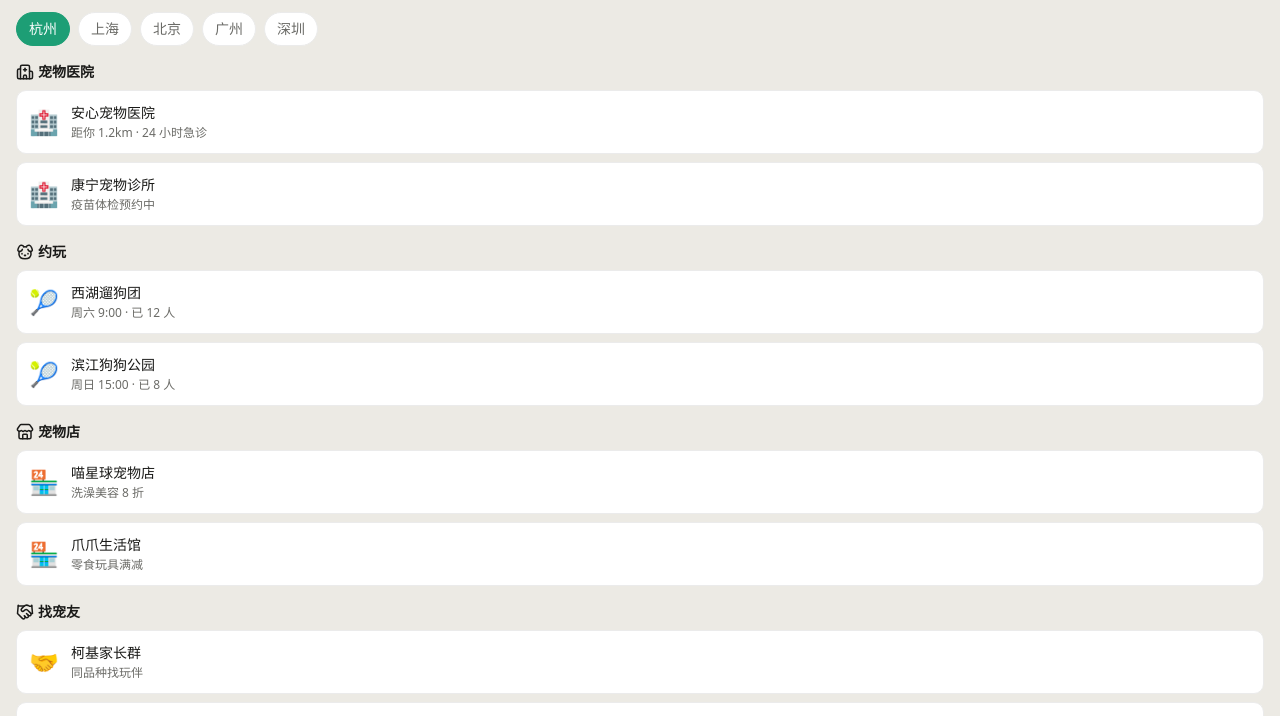
Test: LocalView 同城分区 › source=local 的种子帖并入对应分区（按作者城市）
The image size is (1280, 716).
// post_5 医院推荐（作者 u_chen 广州）→ 广州 · 宠物医院
Click the button "广州" at [229, 29], box top-left (202, 12), bottom-right (256, 46)
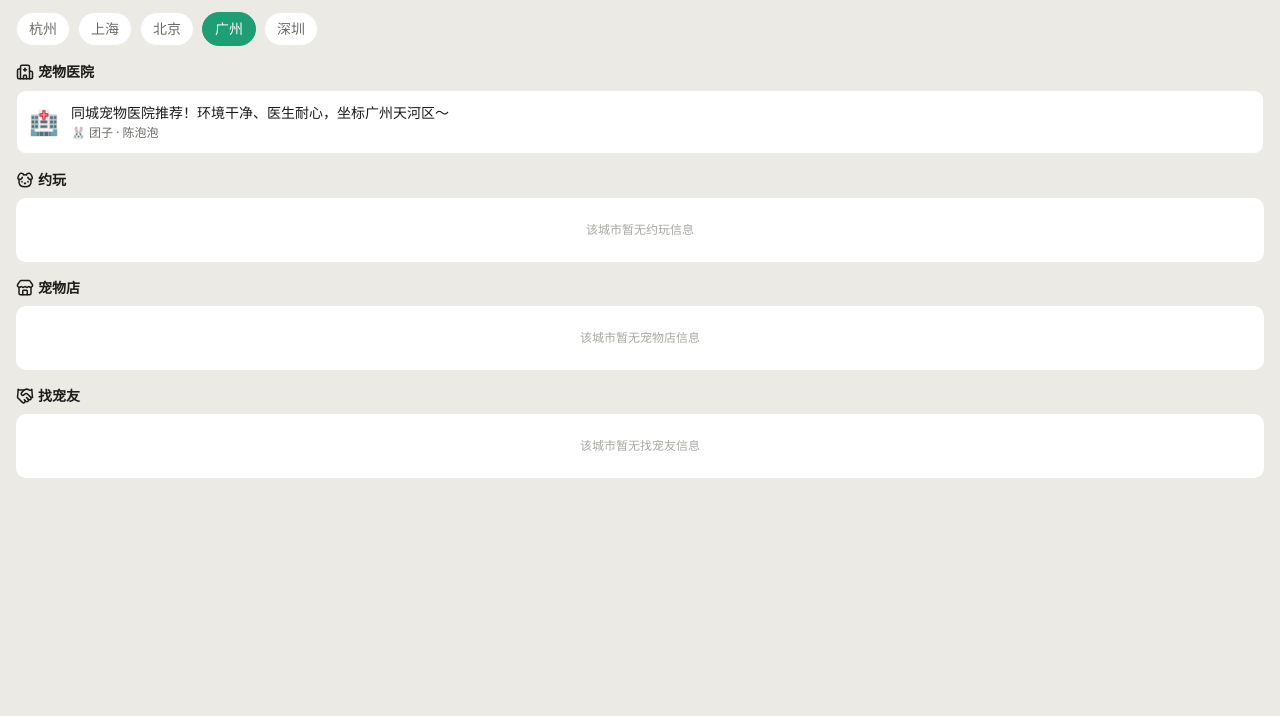
Check: the text "同城宠物医院推荐！环境干净、医生耐心，坐标广州天河区～" is shown, box top-left (71, 103), bottom-right (449, 122)
// post_7 猫友聚会（作者 u_lin 上海）→ 上海 · 约玩
Click the button "上海" at [105, 29], box top-left (78, 12), bottom-right (132, 46)
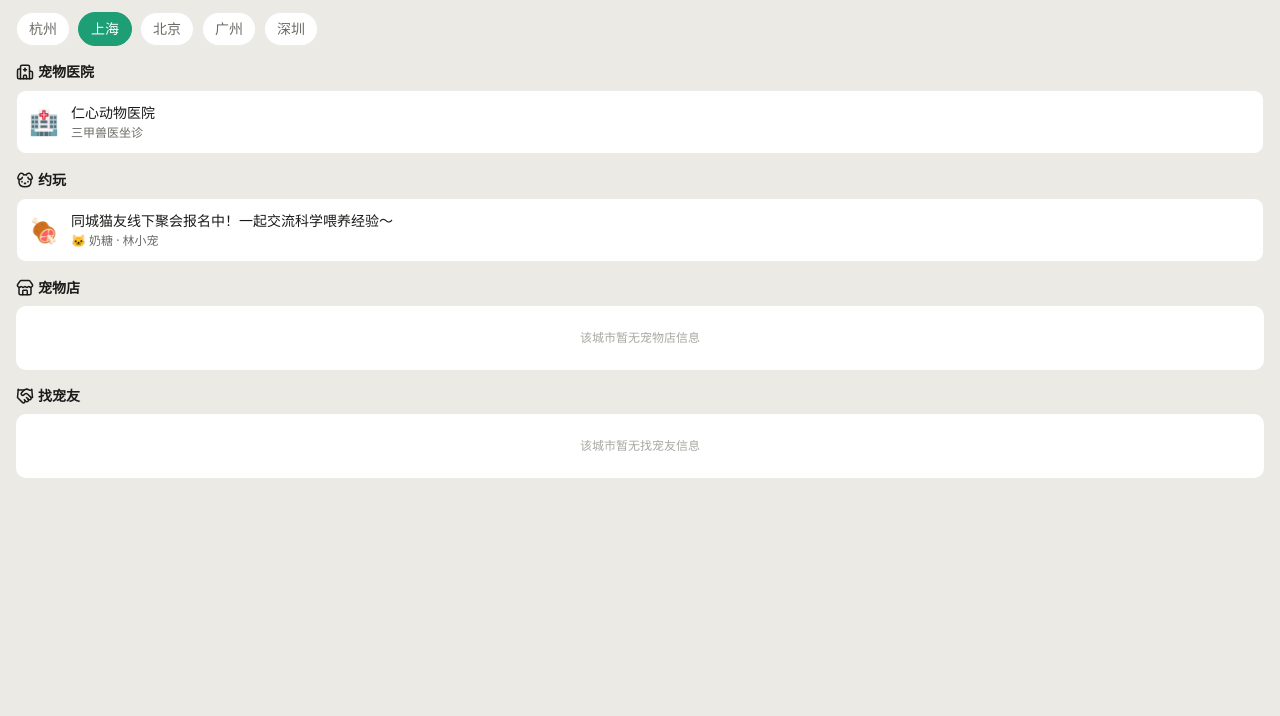
Check: the text "同城猫友线下聚会报名中！一起交流科学喂养经验～" is shown, box top-left (71, 211), bottom-right (393, 230)
